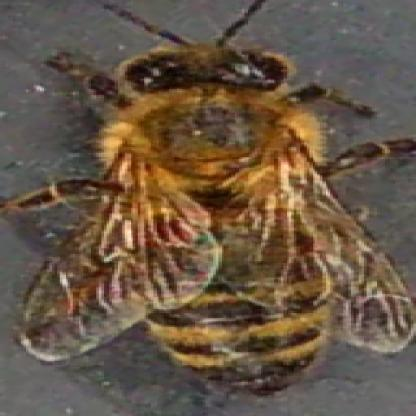bee: (72, 39, 337, 403)
